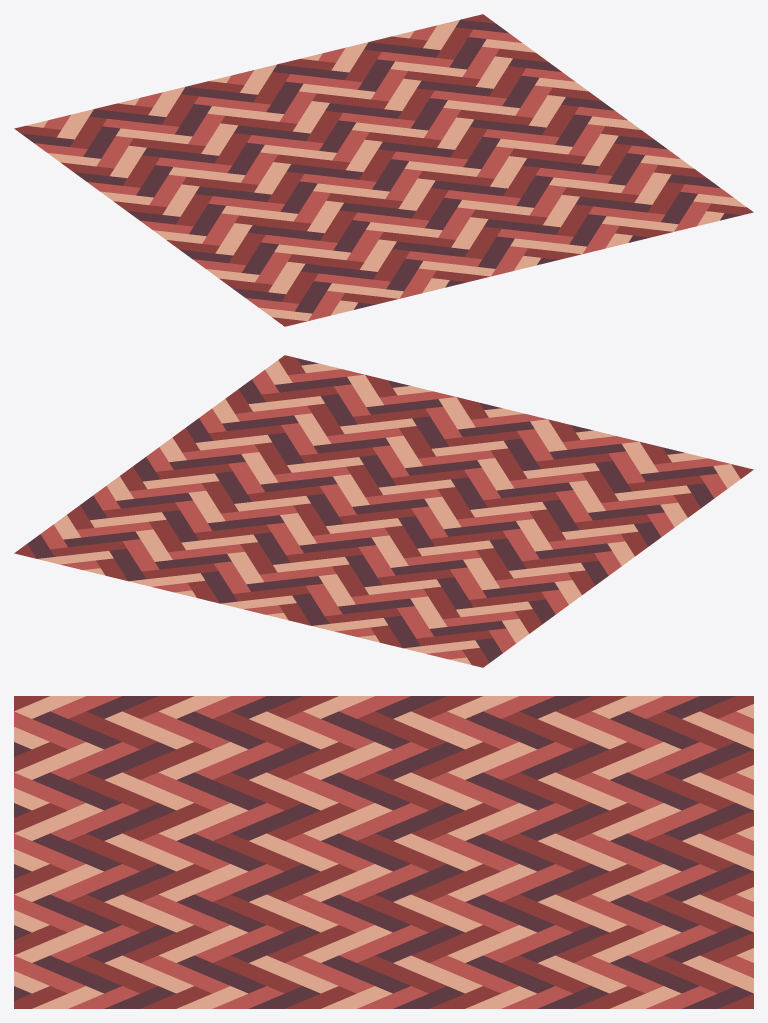
The model's file is parquet.fbx.
3 renders of one model, top to bottom at view 1: azimuth 30°, elevation 25°; view 2: azimuth 150°, elevation 25°; view 3: azimuth 270°, elevation 25°, orthographic. The views are drawn at different scales.
Visible parts, largest first — view 1: parquet; view 2: parquet; view 3: parquet.
Boxes of the visible parts, bbox=[...] form: parquet: bbox=[14, 14, 753, 326]; parquet: bbox=[14, 355, 753, 667]; parquet: bbox=[14, 696, 753, 1008].
Bounding box in the file's own units: 1007 × 0 × 1007.
